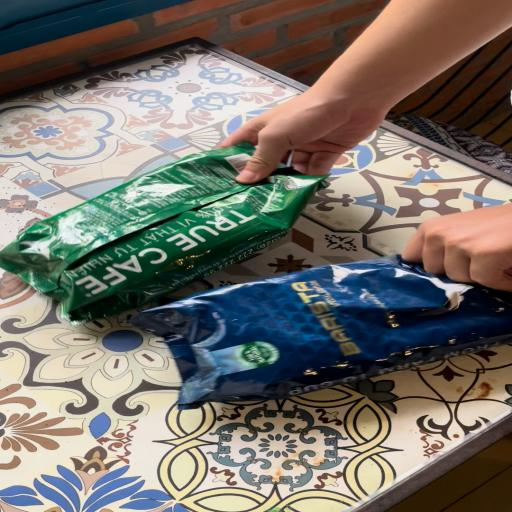cafe_hat: (135, 256, 512, 409)
cafe_xay: (0, 144, 326, 324)
